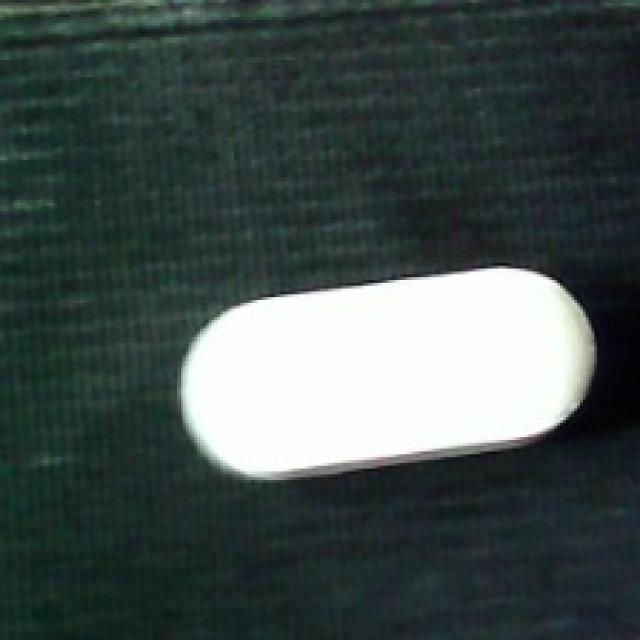no-defect: (171, 259, 600, 484)
